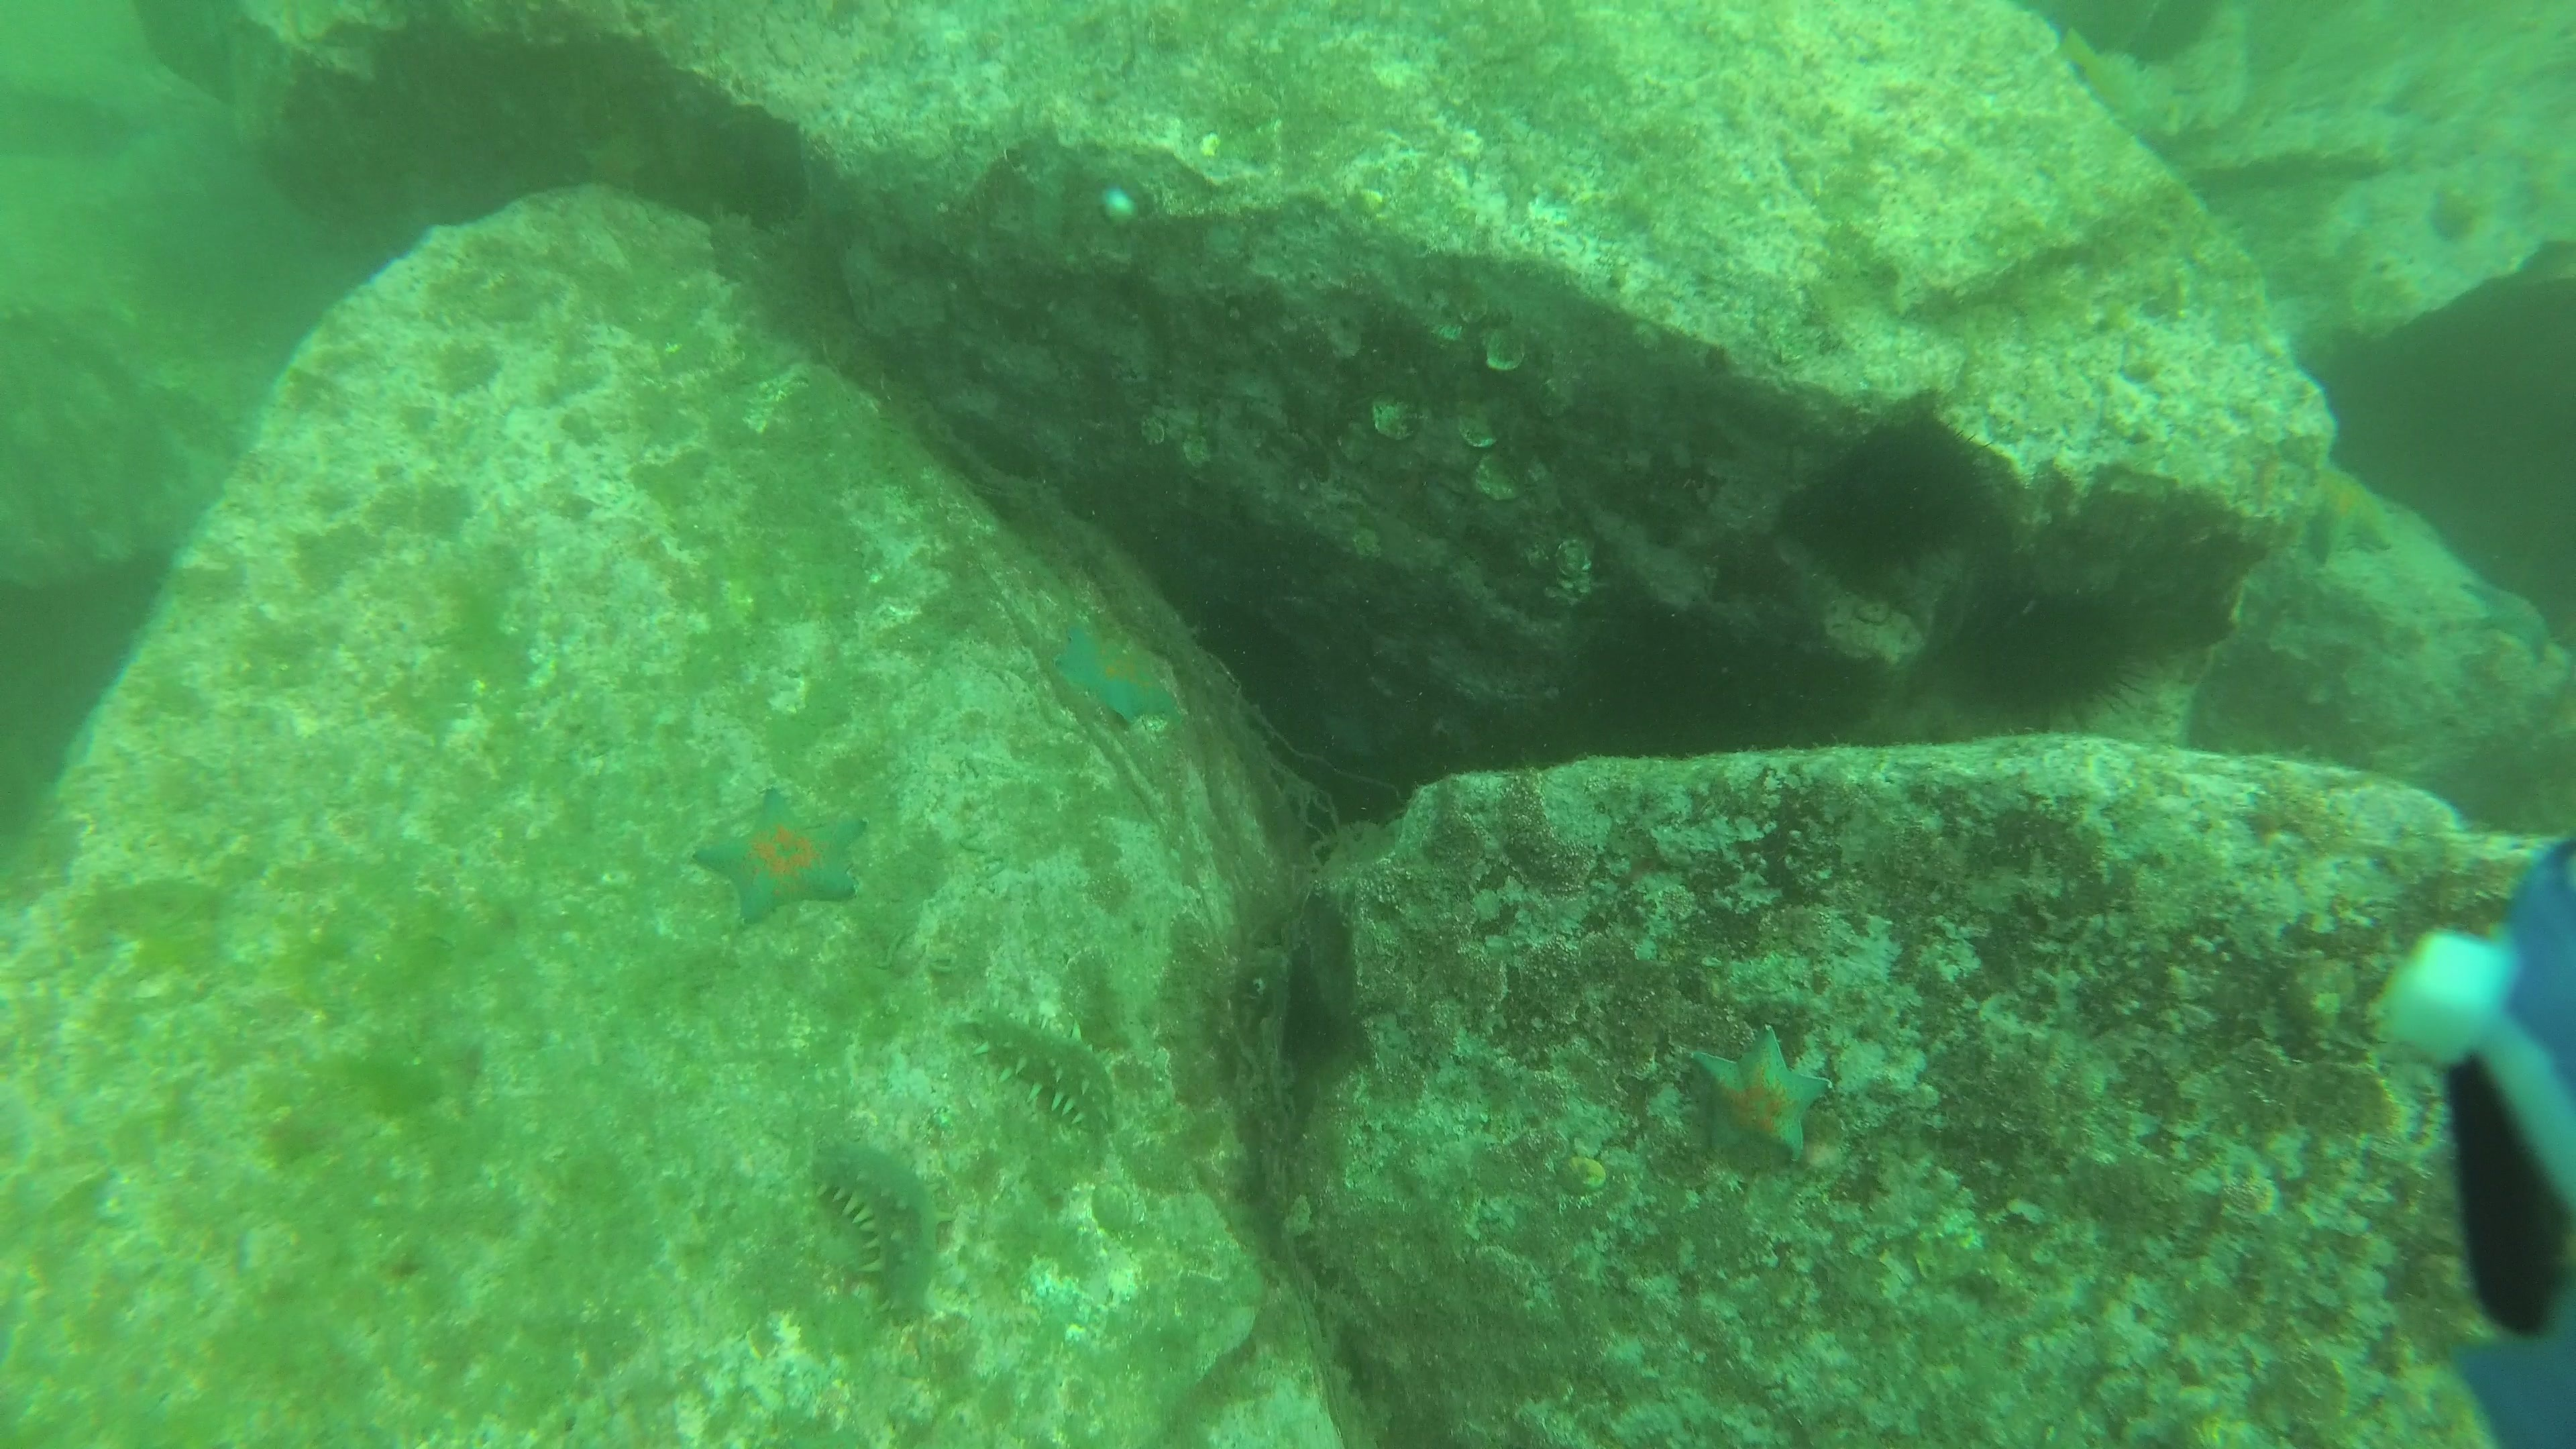echinus: (1982, 536, 2153, 734), (1810, 393, 1982, 591)
holothurian: (801, 1132, 964, 1330), (952, 994, 1125, 1154)
starfish: (694, 782, 869, 925), (1679, 1017, 1833, 1169), (1039, 610, 1196, 732), (2295, 455, 2404, 571), (2456, 566, 2565, 669)
